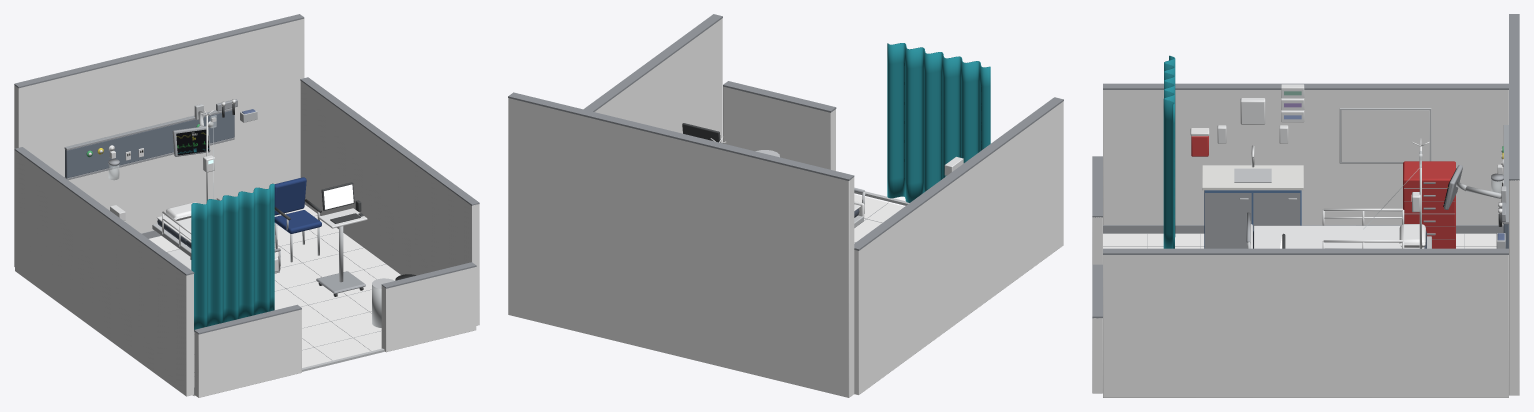
The model's file is room_RES_FAR.glb.
3 renders of one model, left to right at view 1: azimuth 30°, elevation 25°; view 2: azimuth 150°, elevation 25°; view 3: azimuth 270°, elevation 25°, orthographic. The views are drawn at different scales.
Visible parts, largest first — view 1: wall_back.002, wall_left.002, wall_right.002, floor_room.002, curtain.002, wall_front.004, wall_front.005, headwall.002, cap_back.002, cap_left.002, cap_right.002, chair_back.002 (+8 smaller); view 2: wall_back.002, wall_left.002, curtain.002, wall_right.002, wall_front.005, cap_back.002, cap_left.002, cap_right.002, floor_room.002, cap_front.005; view 3: wall_right.002, wall_left.002, whiteboard.002, cart.002, cap_right.002, cap_left.002, cab_door_gap.004, curtain.002, wall_back.002, sheet_foot.002, counter.002, floor_room.002 (+15 smaller).
Boxes of the visible parts, bbox=[...] form: wall_back.002: bbox=[14, 19, 304, 266]; wall_left.002: bbox=[15, 150, 193, 396]; wall_right.002: bbox=[300, 81, 479, 325]; floor_room.002: bbox=[149, 205, 400, 395]; curtain.002: bbox=[191, 183, 274, 329]; wall_front.004: bbox=[194, 309, 301, 397]; wall_front.005: bbox=[381, 267, 476, 352]; headwall.002: bbox=[65, 110, 234, 178]; cap_back.002: bbox=[14, 14, 304, 88]; cap_left.002: bbox=[14, 147, 194, 275]; cap_right.002: bbox=[300, 77, 479, 205]; chair_back.002: bbox=[274, 177, 306, 215]; wall_back.002: bbox=[508, 98, 854, 397]; wall_left.002: bbox=[854, 101, 1063, 394]; curtain.002: bbox=[887, 43, 990, 202]; wall_right.002: bbox=[595, 18, 722, 142]; wall_front.005: bbox=[723, 86, 835, 170]; cap_back.002: bbox=[508, 92, 854, 180]; cap_left.002: bbox=[854, 97, 1063, 250]; cap_right.002: bbox=[583, 14, 722, 111]; floor_room.002: bbox=[854, 194, 904, 243]; cap_front.005: bbox=[723, 81, 836, 112]; wall_right.002: bbox=[1103, 255, 1508, 397]; wall_left.002: bbox=[1103, 90, 1508, 224]; whiteboard.002: bbox=[1341, 110, 1429, 161]; cart.002: bbox=[1403, 161, 1455, 248]; cap_right.002: bbox=[1103, 248, 1508, 254]; cap_left.002: bbox=[1103, 83, 1508, 89]; cab_door_gap.004: bbox=[1205, 193, 1251, 248]; curtain.002: bbox=[1163, 55, 1175, 248]; wall_back.002: bbox=[1509, 180, 1519, 395]; sheet_foot.002: bbox=[1254, 225, 1357, 248]; counter.002: bbox=[1202, 165, 1303, 190]; floor_room.002: bbox=[1103, 233, 1496, 248].
Size of the model in its own units: 4.54 by 2.73 by 4.84.
Materials: 32 (1 with a texture image).
